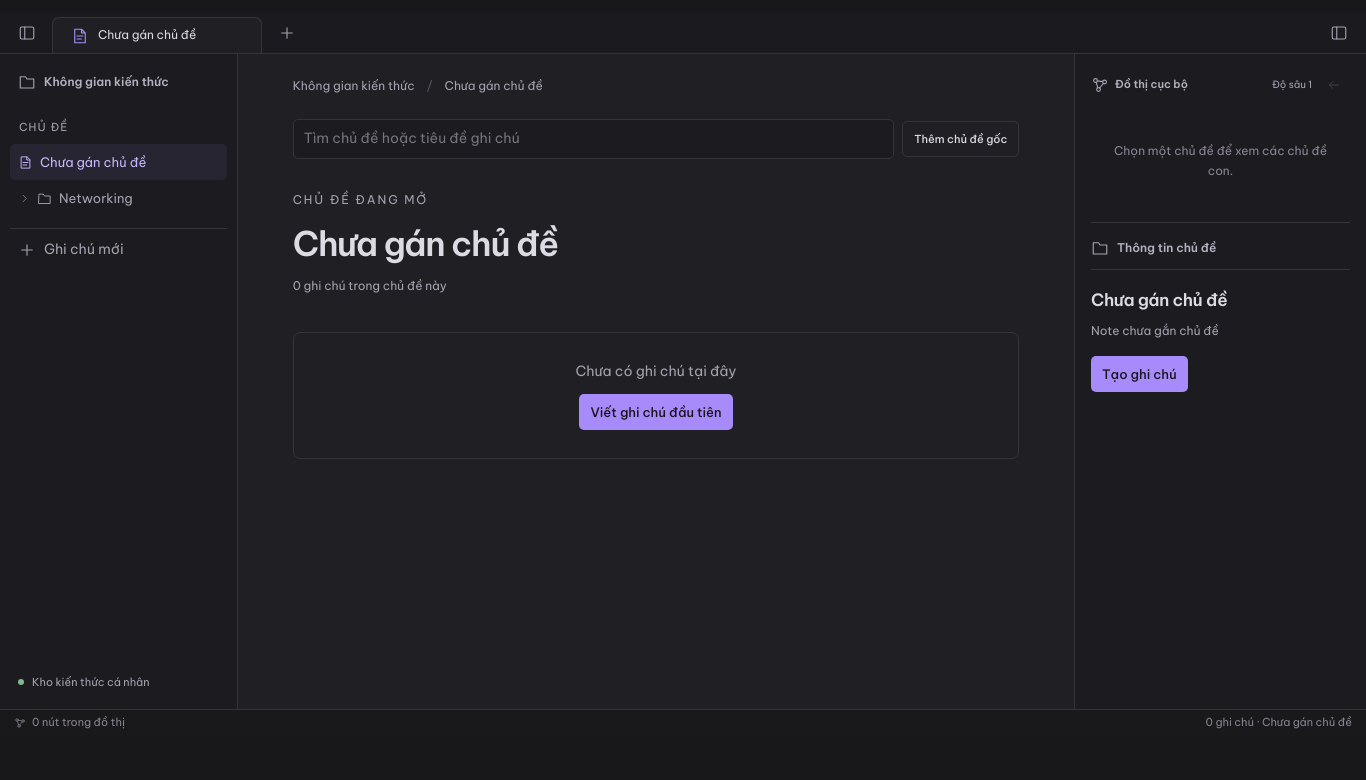
Test: HomePage explorer › shows roots, uncategorized, expands children, and panel actions
Expected: the button with aria-label "Mở ghi chú chưa gán chủ đề" is shown, [10,144,227,180]
Click the button with aria-label "Mở chủ đề Networking" at (118, 198), box [10,180,227,216]
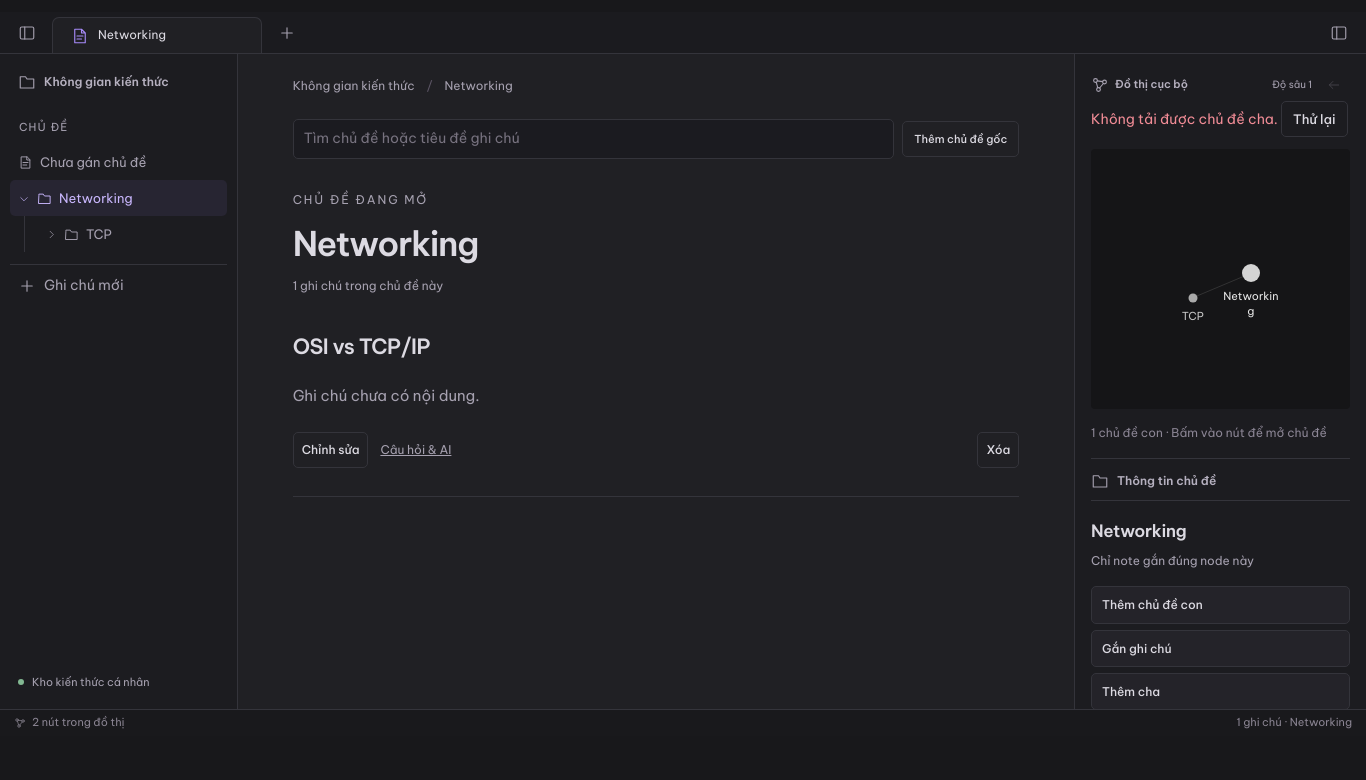
Expected: the button with aria-label "Mở chủ đề TCP" is shown, [37,216,227,252]
Expected: the link "OSI vs TCP/IP" is shown, [293,333,430,360]
Expected: the button "Thêm chủ đề con" is shown, [1091,586,1350,624]
